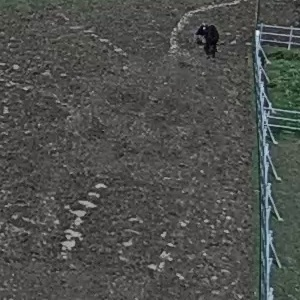cow: (190, 18, 226, 65)
